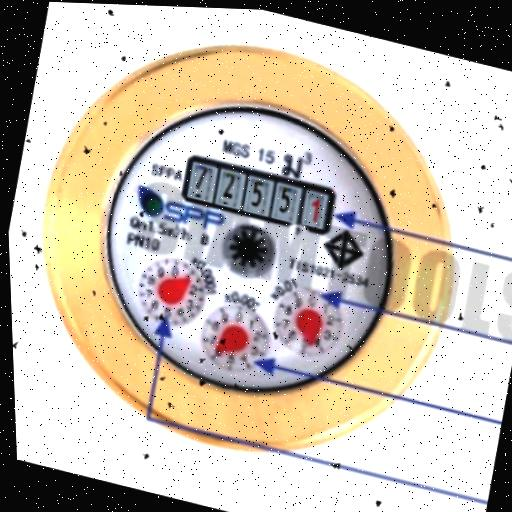1: (304, 195, 326, 227)
2: (217, 172, 240, 208)
5: (245, 179, 269, 215), (275, 187, 297, 222)
7: (188, 166, 213, 202)
border_water_meter_number: (178, 152, 339, 237)
